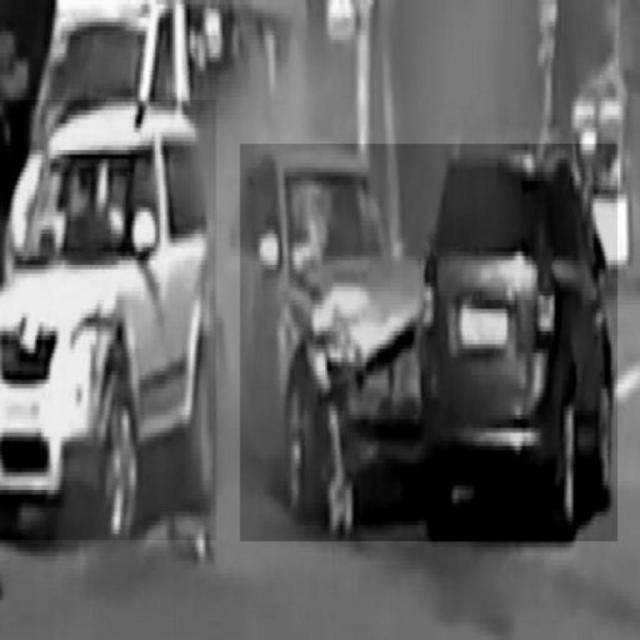accident: (241, 145, 618, 542)
vehicle: (0, 101, 216, 541)
